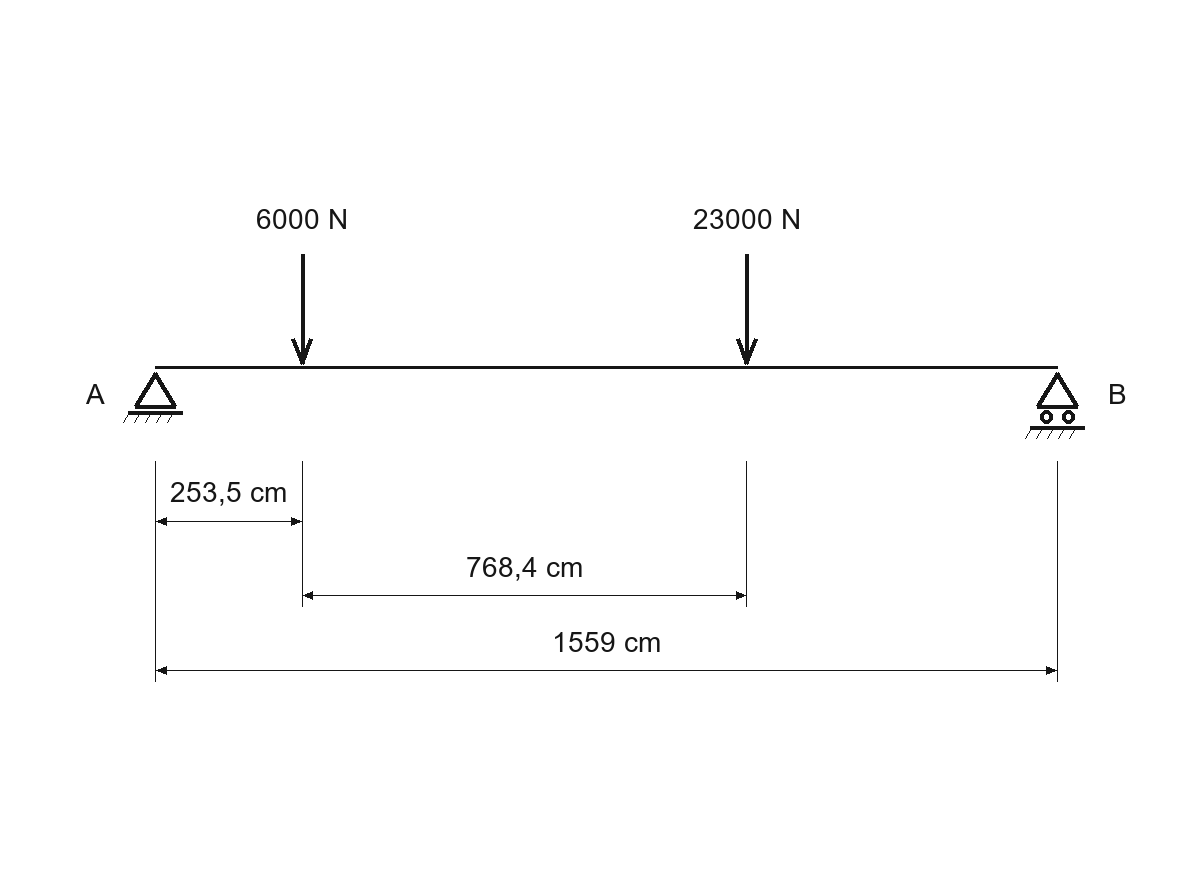pin_support: (123, 372, 183, 423)
point_load: (291, 254, 313, 365), (736, 254, 758, 365)
roller_support: (1025, 372, 1085, 439)
